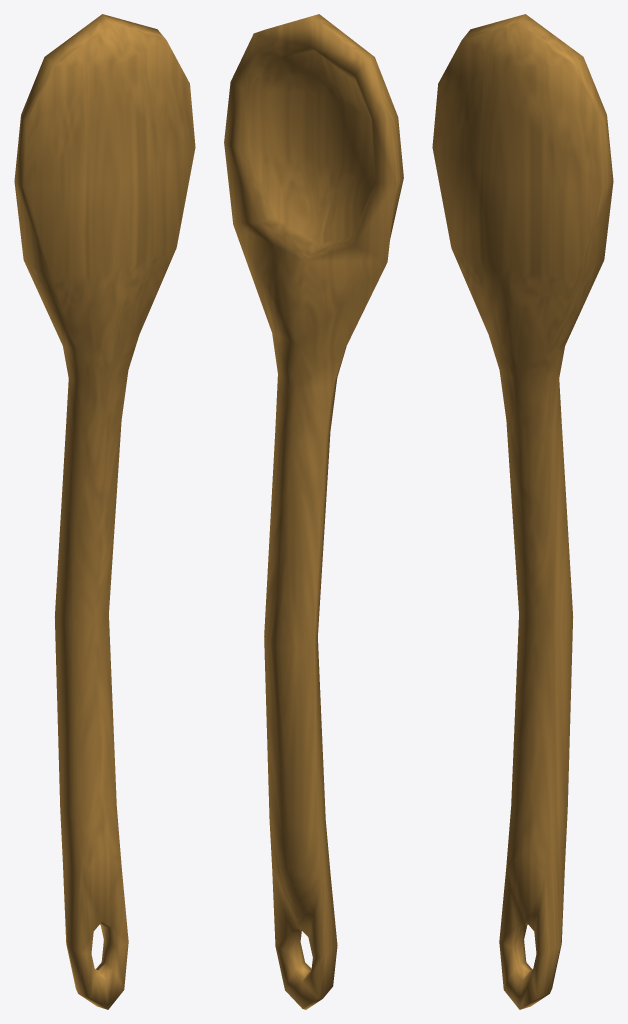
The model's file is ustensils3.glb.
The picture shows the model from 3 angles, left to right: view 1: azimuth 30°, elevation 25°; view 2: azimuth 150°, elevation 25°; view 3: azimuth 330°, elevation 25°; orthographic projection.
Visible parts, largest first — view 1: ustensils3; view 2: ustensils3; view 3: ustensils3.
Boxes of the visible parts, x1,y1,x2,y2 form: ustensils3: (14, 14, 195, 1009); ustensils3: (224, 14, 403, 1009); ustensils3: (432, 14, 613, 1009).
Size of the model in its own units: 0.1026 by 0.564 by 0.0493.
Materials: 1 (1 with a texture image).
